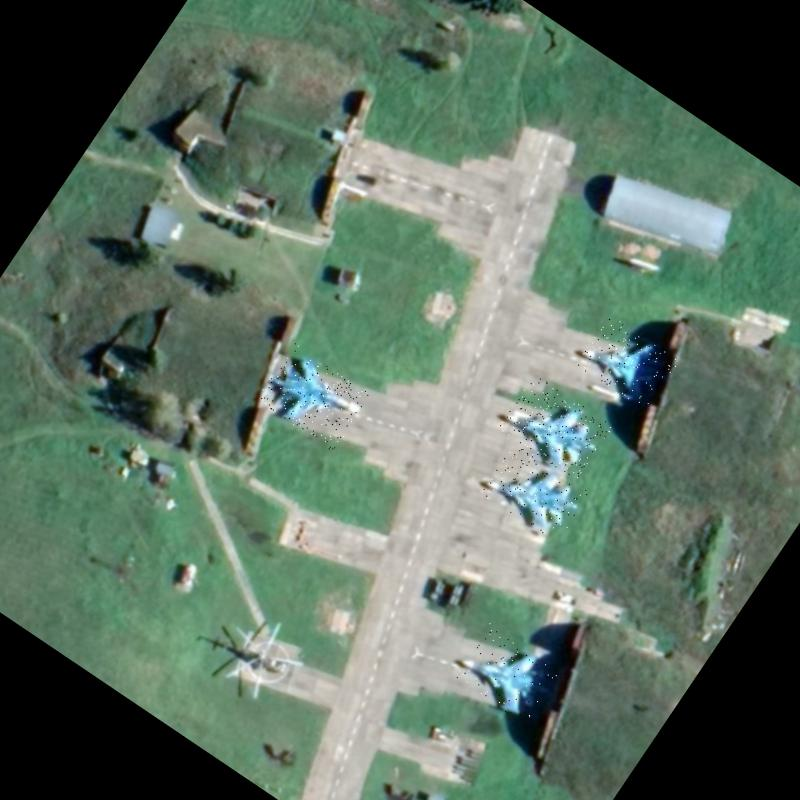A19: (255, 342, 372, 453), (496, 374, 613, 484), (452, 623, 565, 728), (480, 440, 592, 545), (574, 313, 680, 413)
